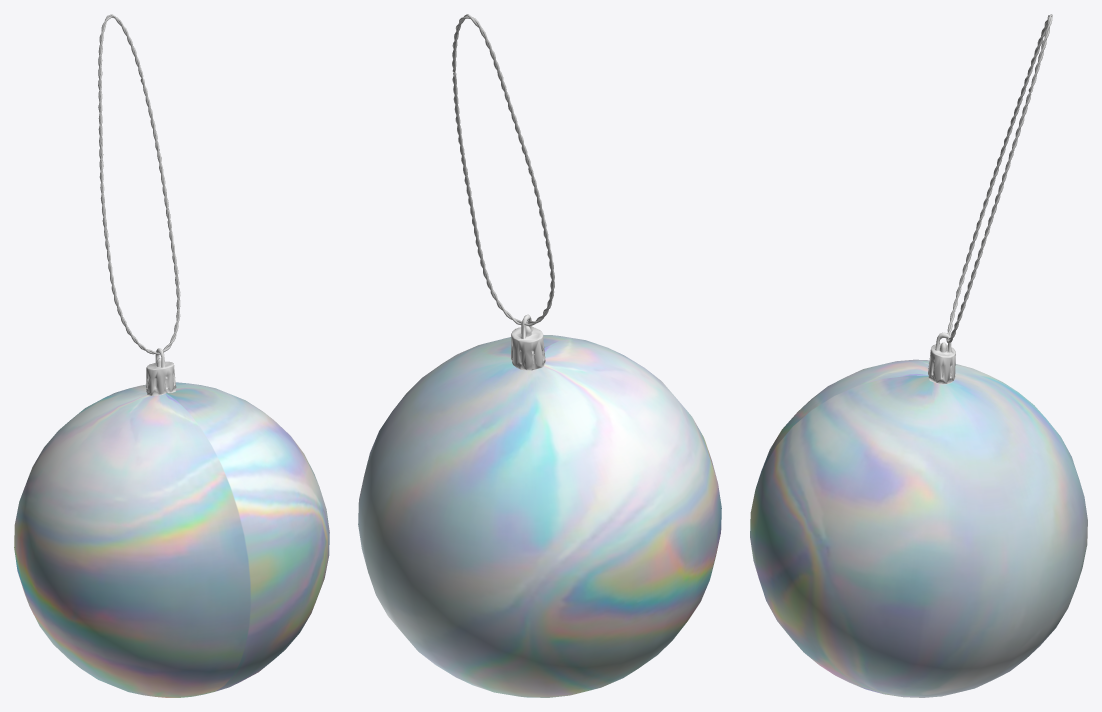
The model's file is Iridescent_Ball_M.glb.
The picture shows the model from 3 angles, left to right: view 1: azimuth 30°, elevation 25°; view 2: azimuth 150°, elevation 25°; view 3: azimuth 270°, elevation 25°; orthographic projection. The views are drawn at different scales.
Visible parts, largest first — view 1: Sphere, GN Instance; view 2: Sphere, GN Instance; view 3: Sphere, GN Instance.
Part boxes in pixels (x1,y1,x2,y2): Sphere: (14, 348, 329, 697); GN Instance: (98, 14, 180, 354); Sphere: (358, 314, 721, 697); GN Instance: (452, 14, 554, 326); Sphere: (750, 332, 1087, 697); GN Instance: (946, 14, 1052, 343).
Size of the model in its own units: 0.055 by 0.1197 by 0.0549.
3 materials, 1 textured.
